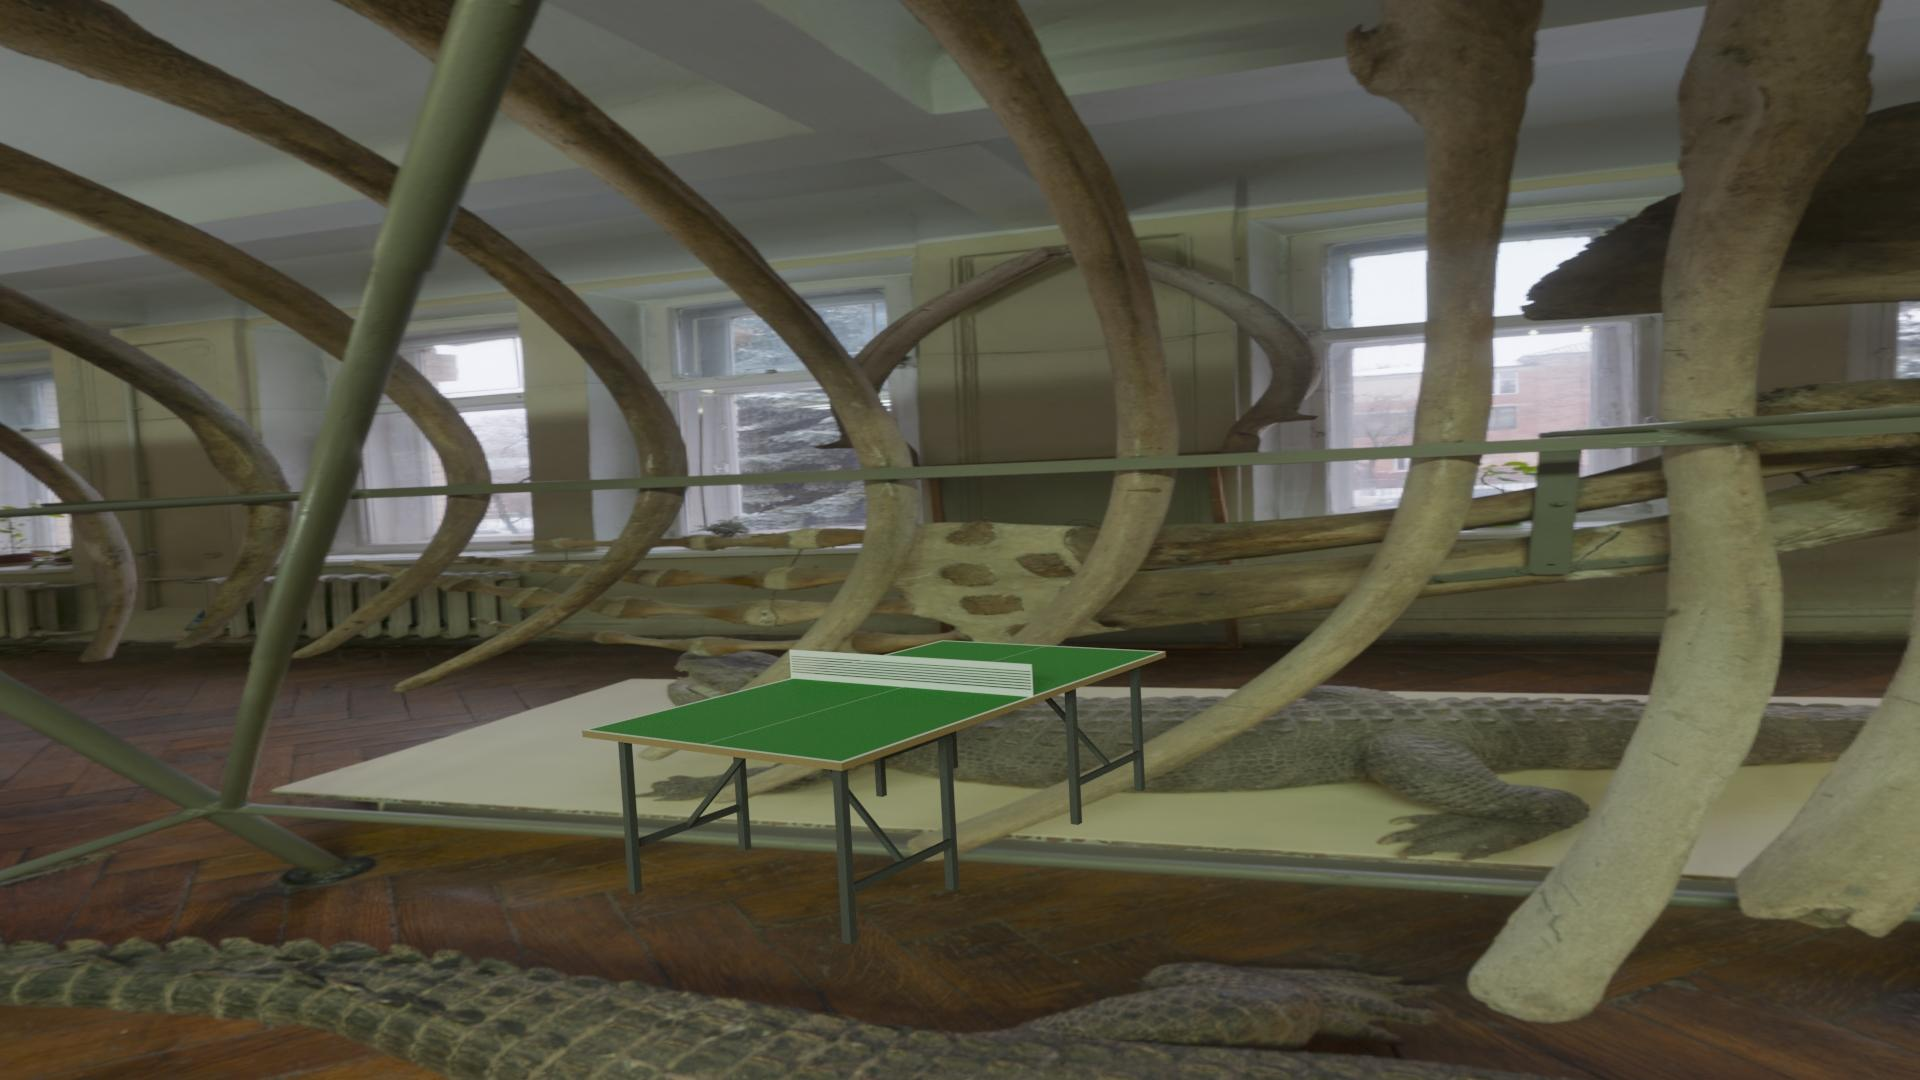table: (588, 641, 1160, 761)
